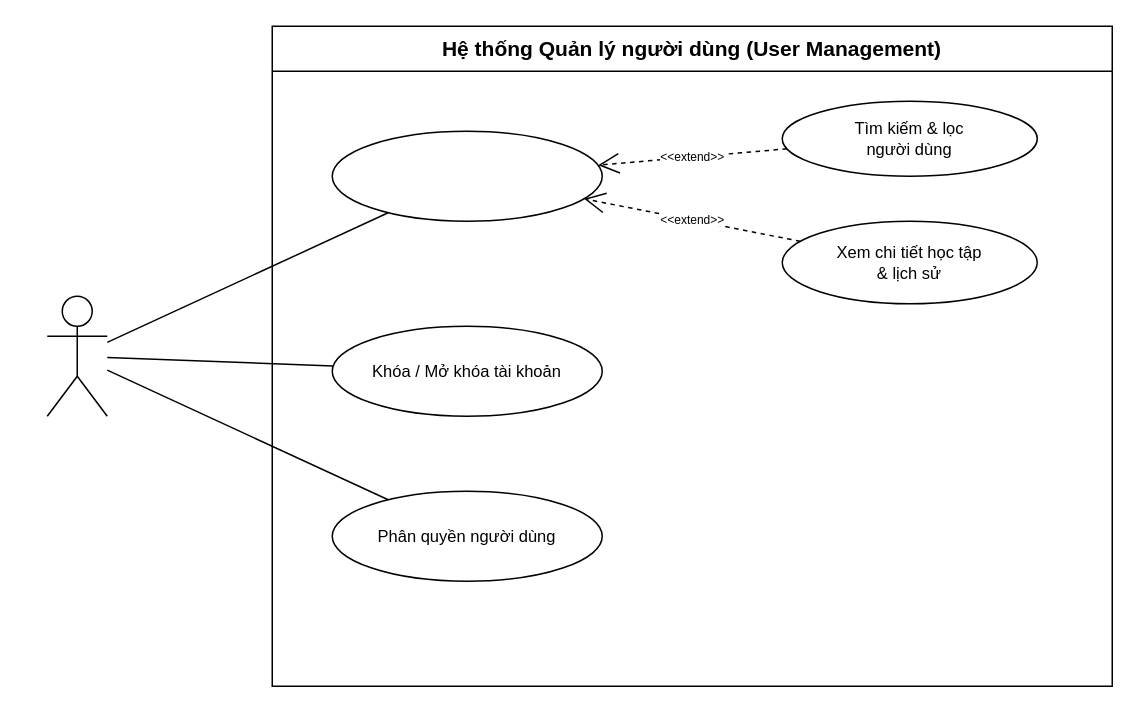
The diagram is 1139 pixels wide and 713 high, and some of its shapes have lost their labels. Here are the shapes that lost their labels. From the top down, the centre of each, then its label:
At point (466, 175): "Xem danh sách người dùng".
At point (76, 355): "Quản trị viên".
